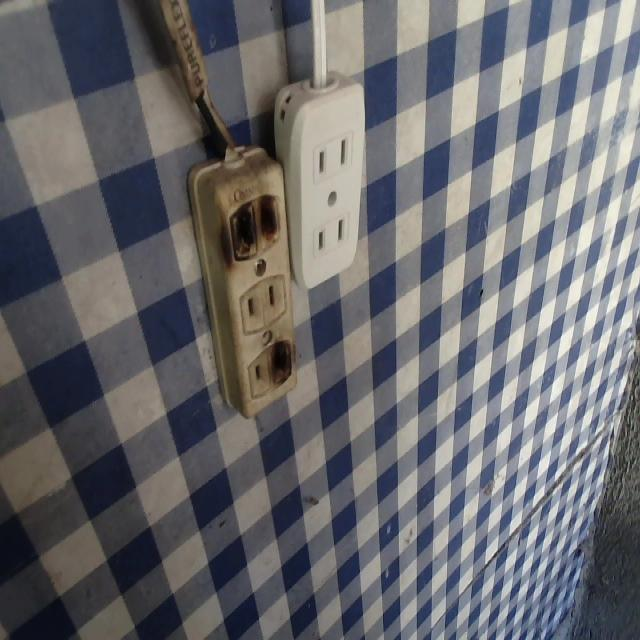-: (216, 193, 287, 259), (267, 337, 295, 392)
